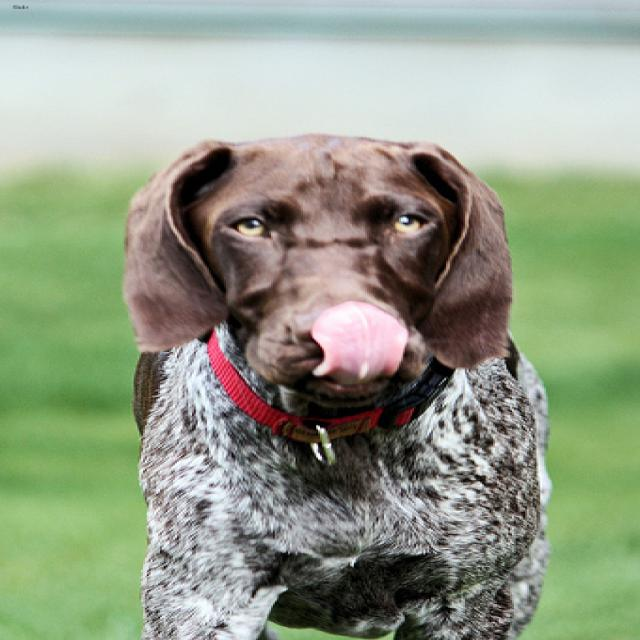dog-german_shorthaired: (105, 123, 565, 637)
